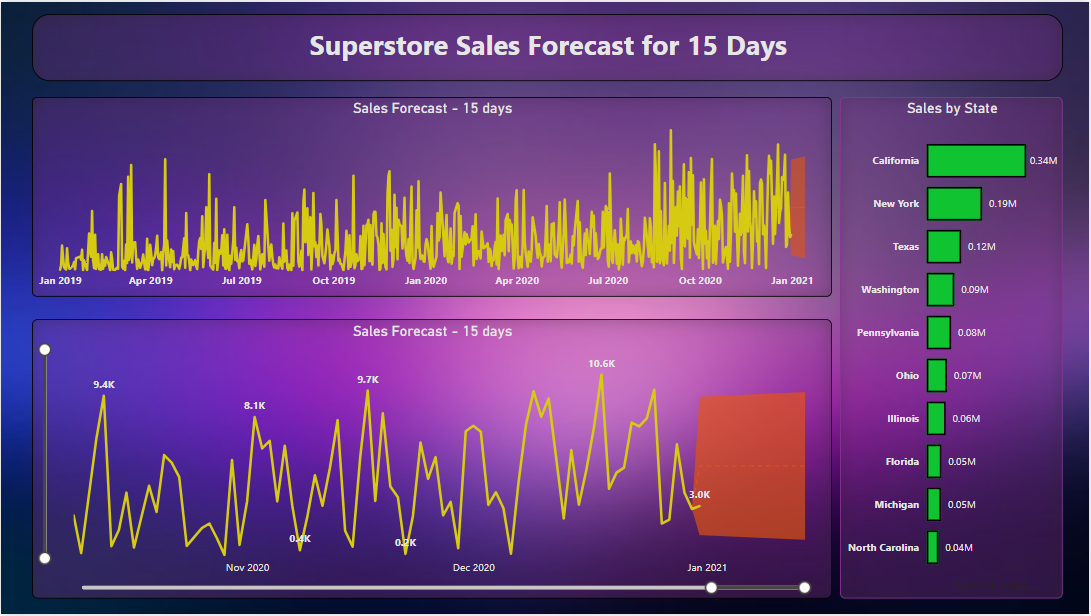

The page's visual inventory and layout, read from the dashboard file:
{"tool":"powerbi","page":{"name":"Page 2","canvas":[1280,720],"ordinal":1},"visuals":[{"type":"lineChart","title":"Sales Forecast - 15 days","fields":{"Y":["Sum(SuperStore_Sales_Dataset.Sales)"],"Category":["SuperStore_Sales_Dataset.Order Date"]},"box":[36,111.4,940.5,235.1],"z":0},{"type":"lineChart","title":"Sales Forecast - 15 days","fields":{"Y":["Sum(SuperStore_Sales_Dataset.Sales)"],"Category":["SuperStore_Sales_Dataset.Order Date"]},"box":[36,372.4,940.5,328.5],"z":1000},{"type":"textbox","box":[36,14.6,1212.8,78.8],"z":2000},{"type":"clusteredBarChart","title":"Sales by State","fields":{"Category":["SuperStore_Sales_Dataset.State"],"Y":["Sum(SuperStore_Sales_Dataset.Sales)"]},"box":[986.6,111.4,262.1,589.5],"z":3000}]}

Visuals, with their boxes in screenshot pixels (x1, y1, x2, y2), scaled from the page's 1280x720 canvas onto the 1091x616 screenshot:
"Sales Forecast - 15 days" lineChart: box(31, 95, 832, 296)
"Sales Forecast - 15 days" lineChart: box(31, 319, 832, 600)
textbox: box(31, 12, 1064, 80)
"Sales by State" clusteredBarChart: box(841, 95, 1064, 600)
